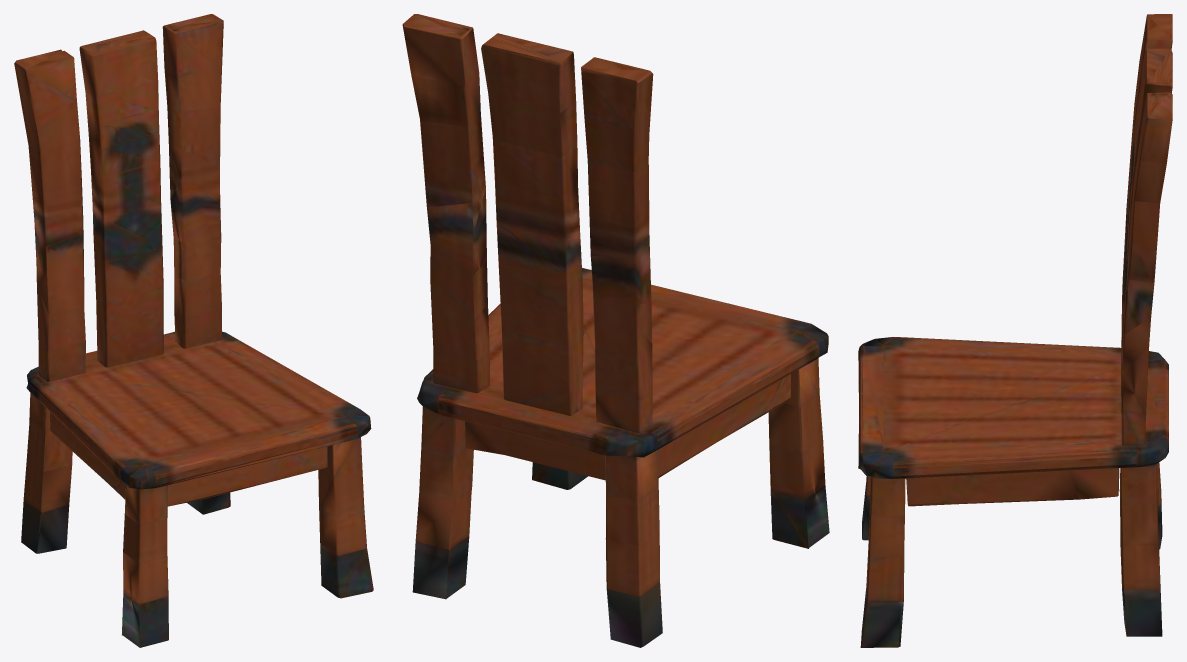
File: chair.lod1.glb
3 renders of one model, left to right at view 1: azimuth 30°, elevation 25°; view 2: azimuth 150°, elevation 25°; view 3: azimuth 270°, elevation 25°, orthographic. The views are drawn at different scales.
Bounding box in the file's own units: 0.5047 × 0.95 × 0.5195.
Materials: 1 (1 with a texture image).
